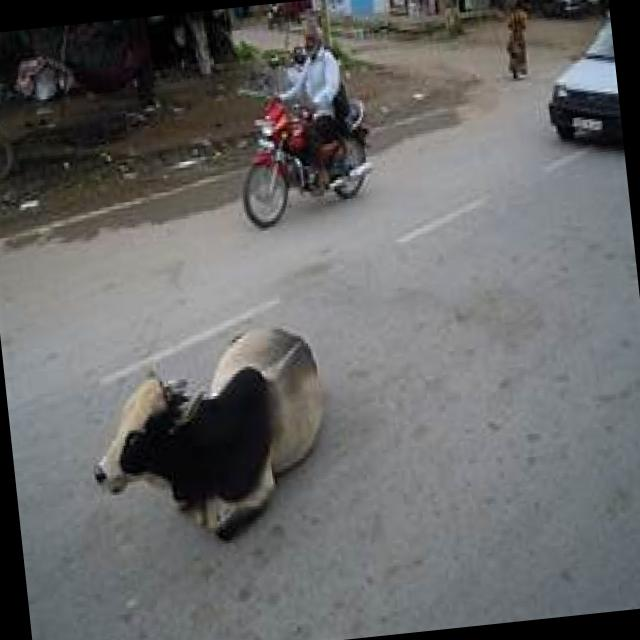cow: (80, 316, 340, 553)
